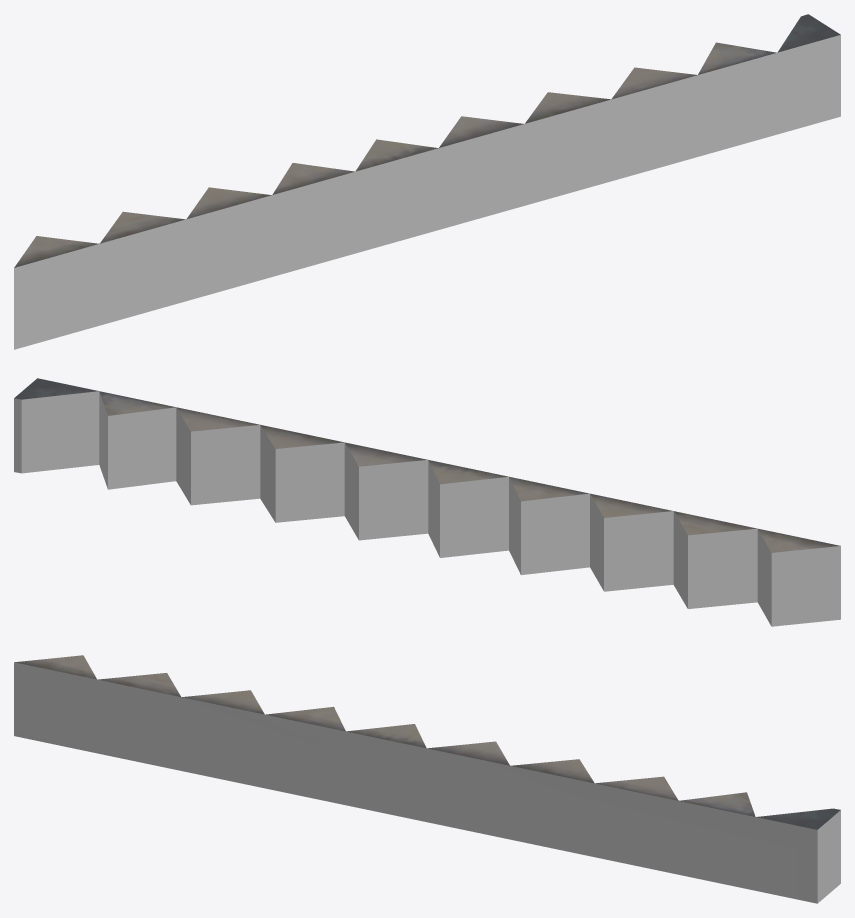
File: DEBW_0010007TI0d.gltf
3 renders of one model, top to bottom at view 1: azimuth 30°, elevation 25°; view 2: azimuth 150°, elevation 25°; view 3: azimuth 330°, elevation 25°, orthographic. The views are drawn at different scales.
Parts seen in each view (by area): view 1: Z_UP; view 2: Z_UP; view 3: Z_UP.
Part boxes in pixels (<box>): Z_UP: <box>14,14,840,349</box>; Z_UP: <box>14,378,840,626</box>; Z_UP: <box>14,655,840,903</box>.
Size of the model in its own units: 34.17 by 3.11 by 4.24.
Materials: 2 (1 with a texture image).
